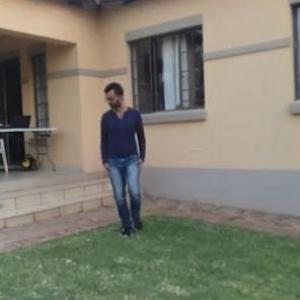follow: (98, 77, 145, 238)
